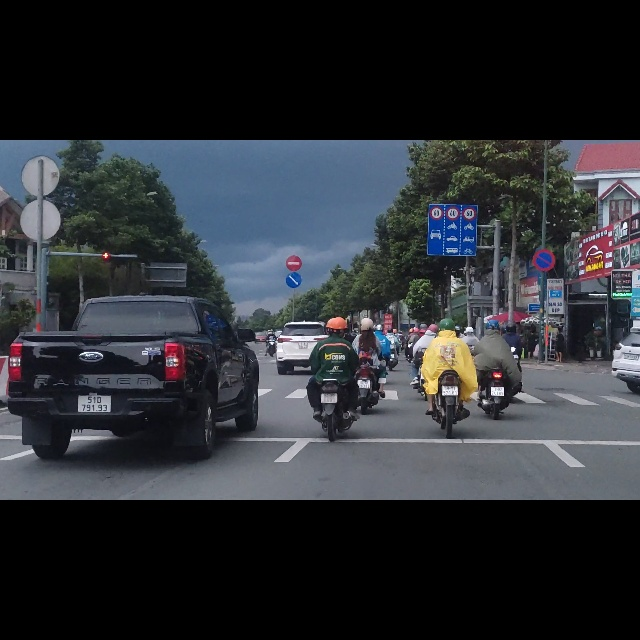bien_chi_dan: (427, 113, 478, 207), (532, 193, 556, 233), (285, 234, 302, 264), (285, 204, 302, 234)
